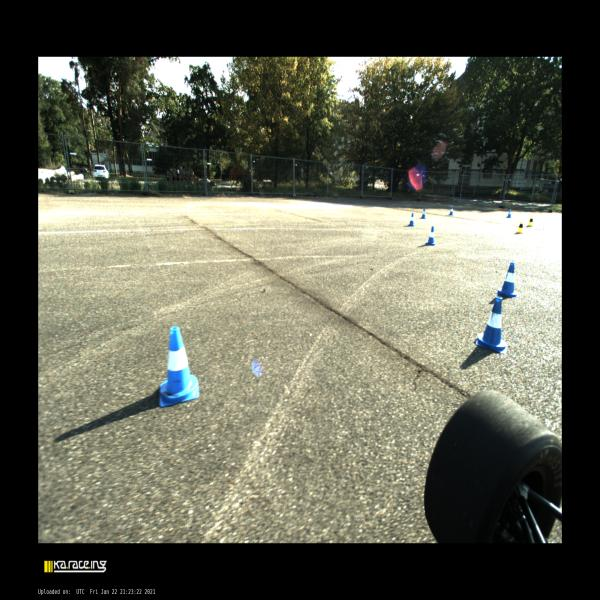blue_cone: (160, 326, 200, 407), (476, 296, 506, 353), (496, 262, 516, 297), (425, 226, 435, 245), (408, 212, 414, 226), (420, 208, 425, 218), (506, 209, 511, 218), (449, 206, 453, 214)
yellow_cone: (516, 221, 524, 234), (526, 216, 532, 227)
